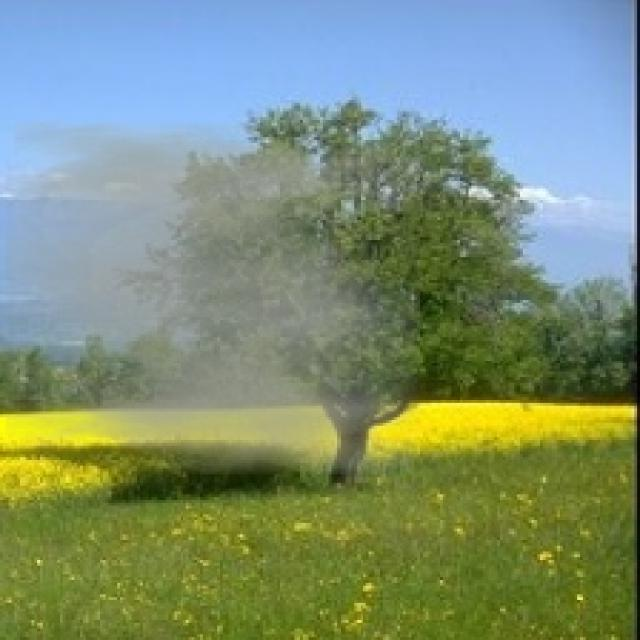Smoke: (6, 120, 420, 474)
